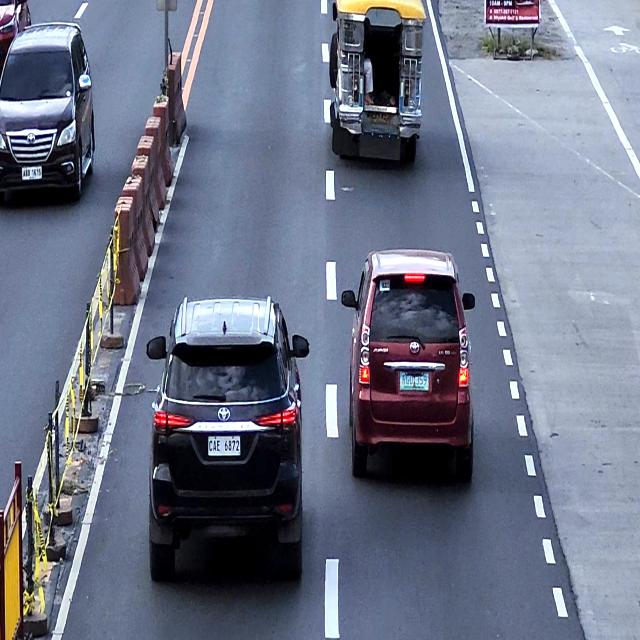Car: (146, 294, 309, 582), (341, 248, 475, 480), (0, 21, 95, 201), (0, 0, 33, 63)
Jeep: (328, 0, 426, 163)
License-Plate: (206, 433, 242, 458), (398, 370, 429, 390), (369, 110, 392, 126), (21, 166, 43, 180)
